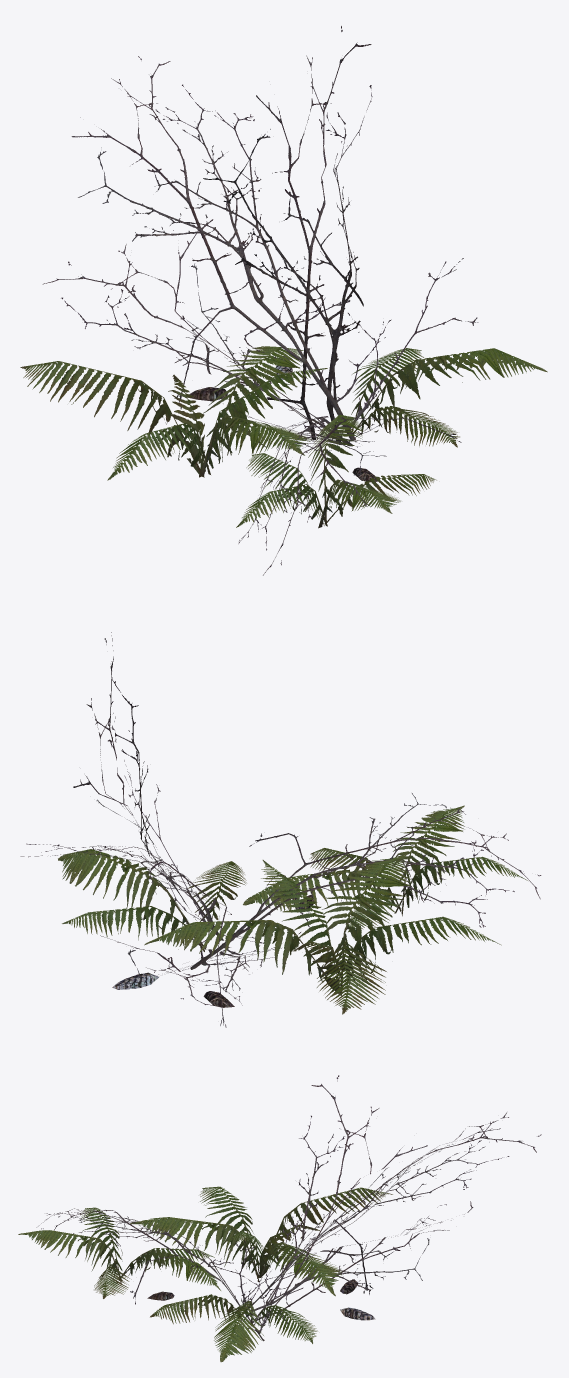
Rendered from prop_log_ae.FBX.
3 renders of one model, top to bottom at view 1: azimuth 30°, elevation 25°; view 2: azimuth 150°, elevation 25°; view 3: azimuth 270°, elevation 25°, orthographic. The views are drawn at different scales.
Visible parts, largest first — view 1: prop_log_ae; view 2: prop_log_ae; view 3: prop_log_ae.
Part boxes in pixels (box(x1,y1,x2,y2)): prop_log_ae: box(20, 26, 547, 575); prop_log_ae: box(20, 632, 541, 1027); prop_log_ae: box(18, 1075, 541, 1362).
Size of the model in its own units: 2.24 by 3.01 by 1.81.
1 material, 1 textured.
